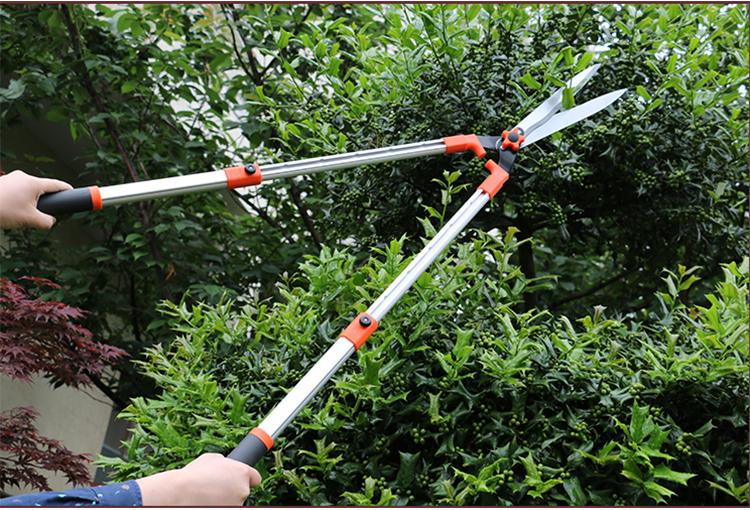scissor: (97, 31, 637, 466)
